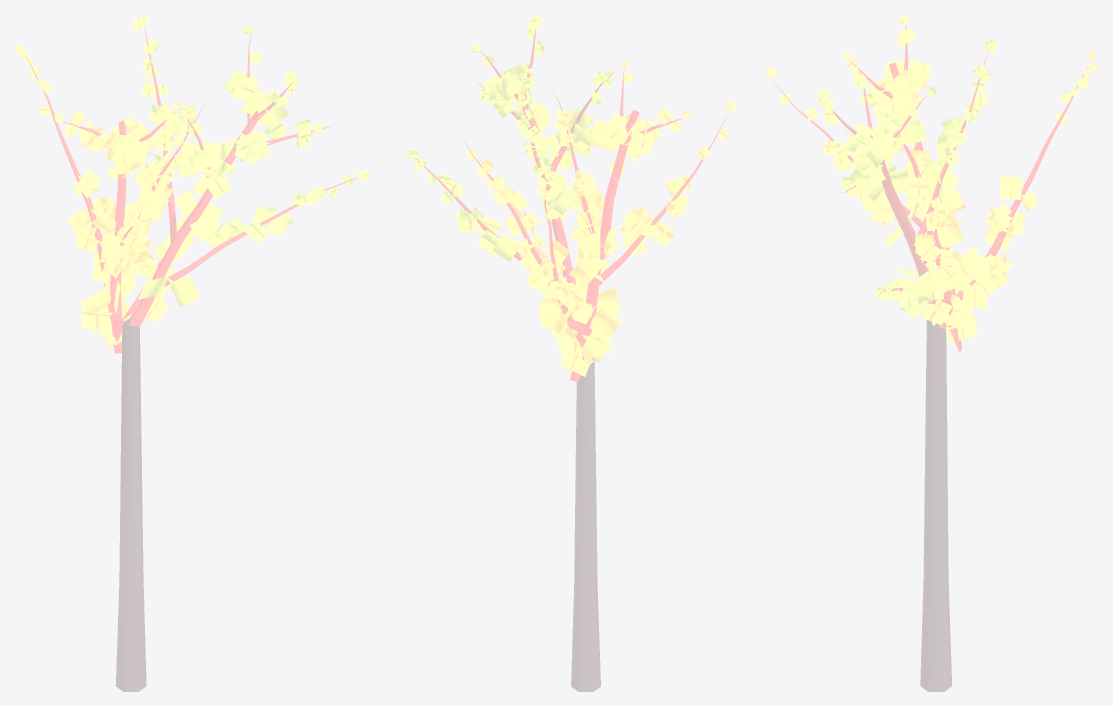
Rendered from tree.fbx.
3 views of the same model, side by side, from view 1: azimuth 30°, elevation 25°; view 2: azimuth 150°, elevation 25°; view 3: azimuth 270°, elevation 25° (orthographic). The views are drawn at different scales.
Visible parts, largest first — view 1: Tree_1; view 2: Tree_1; view 3: Tree_1.
Part boxes in pixels (x1=…): Tree_1: x1=14, y1=14, x2=371, y2=691; Tree_1: x1=405, y1=14, x2=736, y2=691; Tree_1: x1=765, y1=14, x2=1098, y2=691.
Size of the model in its own units: 9.25 by 18.39 by 8.36.
